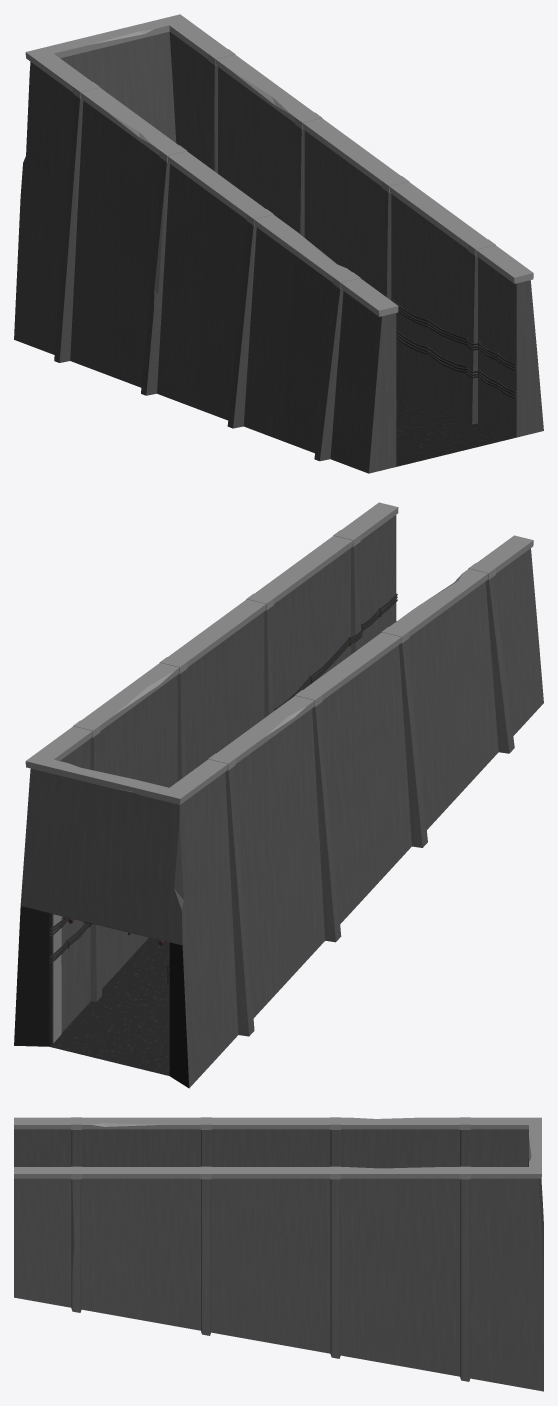
The model's file is SW_ENV_OpenTunnelMouth_TrackRise_Single_FF.fbx.
The picture shows the model from 3 angles, top to bottom: view 1: azimuth 30°, elevation 25°; view 2: azimuth 150°, elevation 25°; view 3: azimuth 270°, elevation 25°; orthographic projection. The views are drawn at different scales.
Parts seen in each view (by area): view 1: SW_ENV_OpenTunnelMouth_TrackRise_Single_FF; view 2: SW_ENV_OpenTunnelMouth_TrackRise_Single_FF; view 3: SW_ENV_OpenTunnelMouth_TrackRise_Single_FF.
Part boxes in pixels (left/top/right/bottom): SW_ENV_OpenTunnelMouth_TrackRise_Single_FF: left=14, top=14, right=543, bottom=473; SW_ENV_OpenTunnelMouth_TrackRise_Single_FF: left=14, top=502, right=543, bottom=1088; SW_ENV_OpenTunnelMouth_TrackRise_Single_FF: left=14, top=1117, right=543, bottom=1391.
Bounding box in the file's own units: 649 × 911 × 2045.
